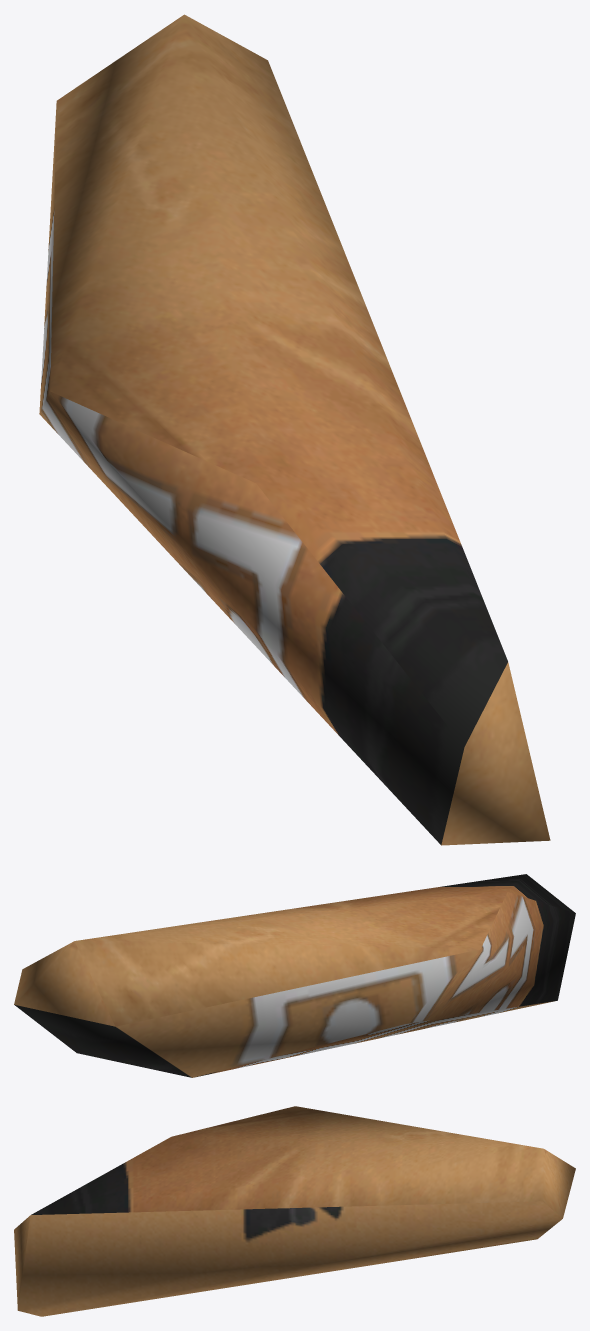
Rendered from dest_nt_nuked_female_01_arm_right_LOD3.obj.
The picture shows the model from 3 angles, top to bottom: view 1: azimuth 30°, elevation 25°; view 2: azimuth 150°, elevation 25°; view 3: azimuth 270°, elevation 25°; orthographic projection. The views are drawn at different scales.
Visible parts, largest first — view 1: mtl_nt_2020_manne_fem01_dress1; view 2: mtl_nt_2020_manne_fem01_dress1; view 3: mtl_nt_2020_manne_fem01_dress1.
Boxes of the visible parts, left/top/right/bottom form: mtl_nt_2020_manne_fem01_dress1: left=39, top=14, right=550, bottom=845; mtl_nt_2020_manne_fem01_dress1: left=14, top=874, right=575, bottom=1077; mtl_nt_2020_manne_fem01_dress1: left=14, top=1106, right=575, bottom=1316.
Size of the model in its own units: 26.79 by 22.64 by 56.06.
